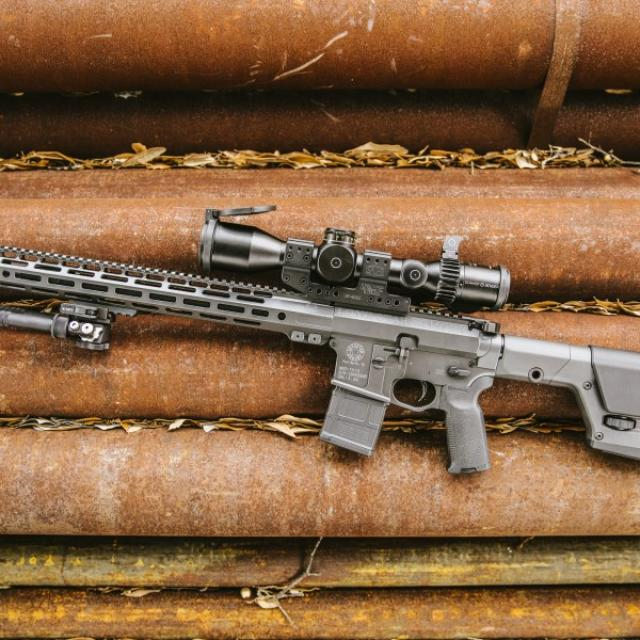Rifle: (0, 210, 640, 478)
